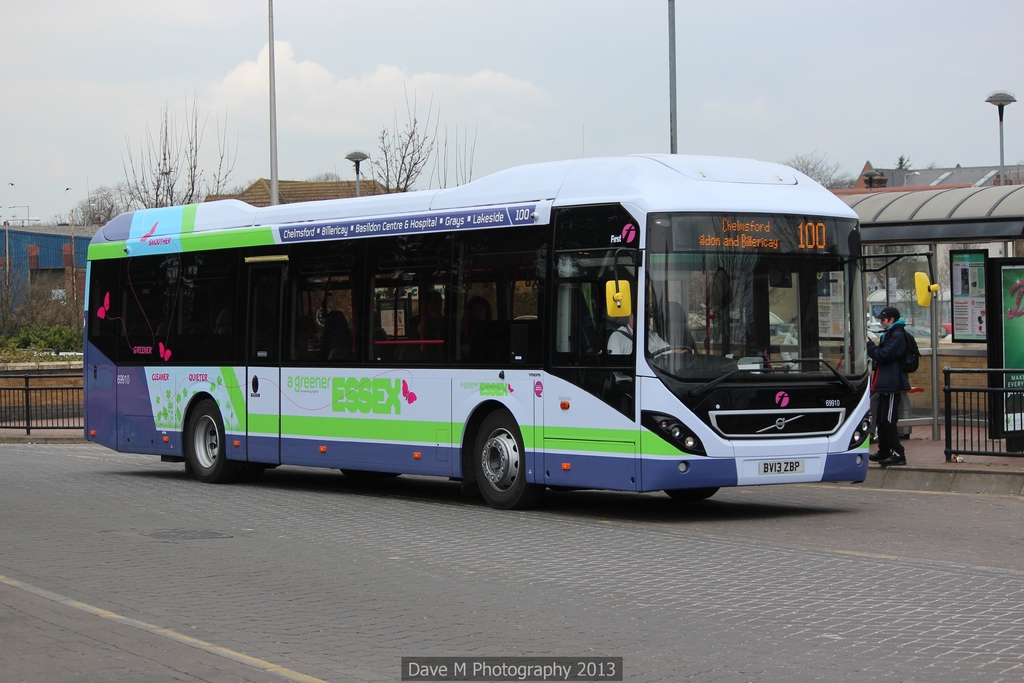Bus: (81, 152, 939, 513)
